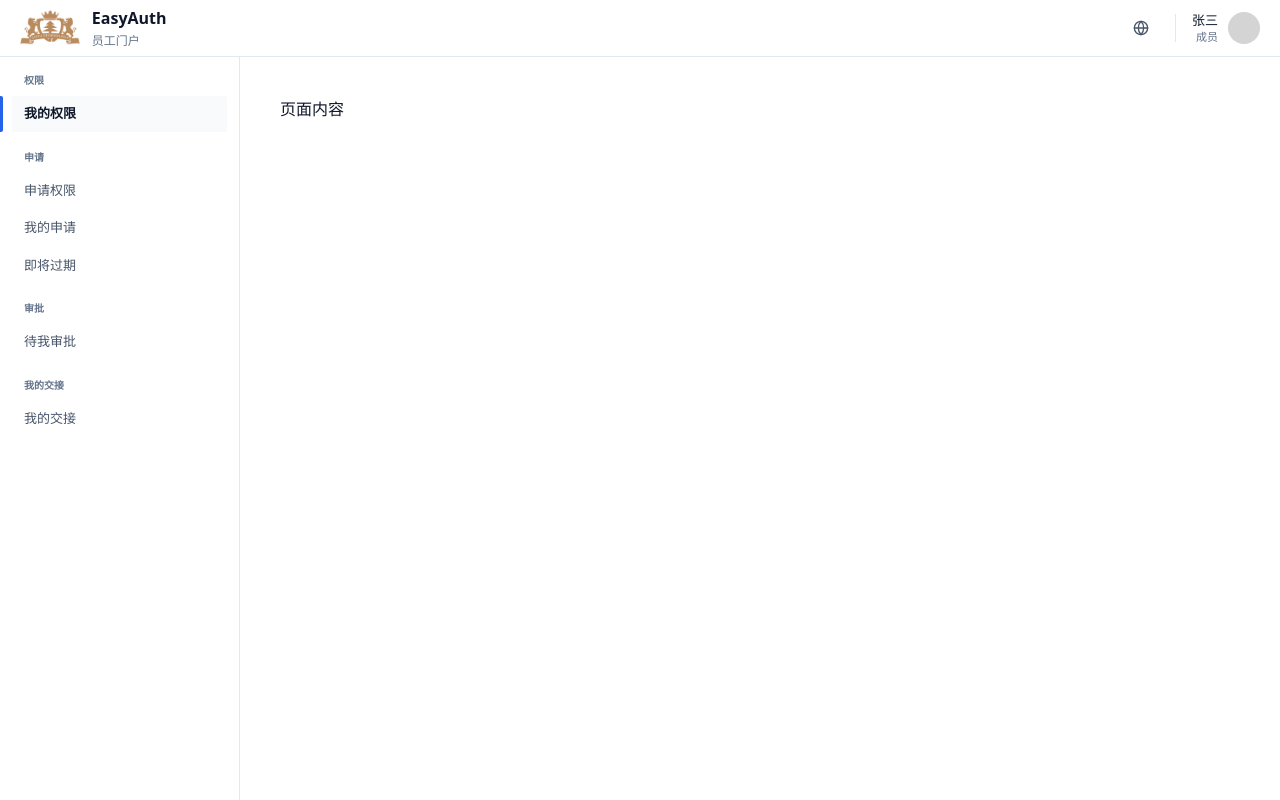
Test case: AppShell › 点击用户身份区域时展示登出菜单
Step 1. Click the button with aria-label "当前登录用户菜单" → {"x": 1226, "y": 28}, box [1188,8,1264,48]
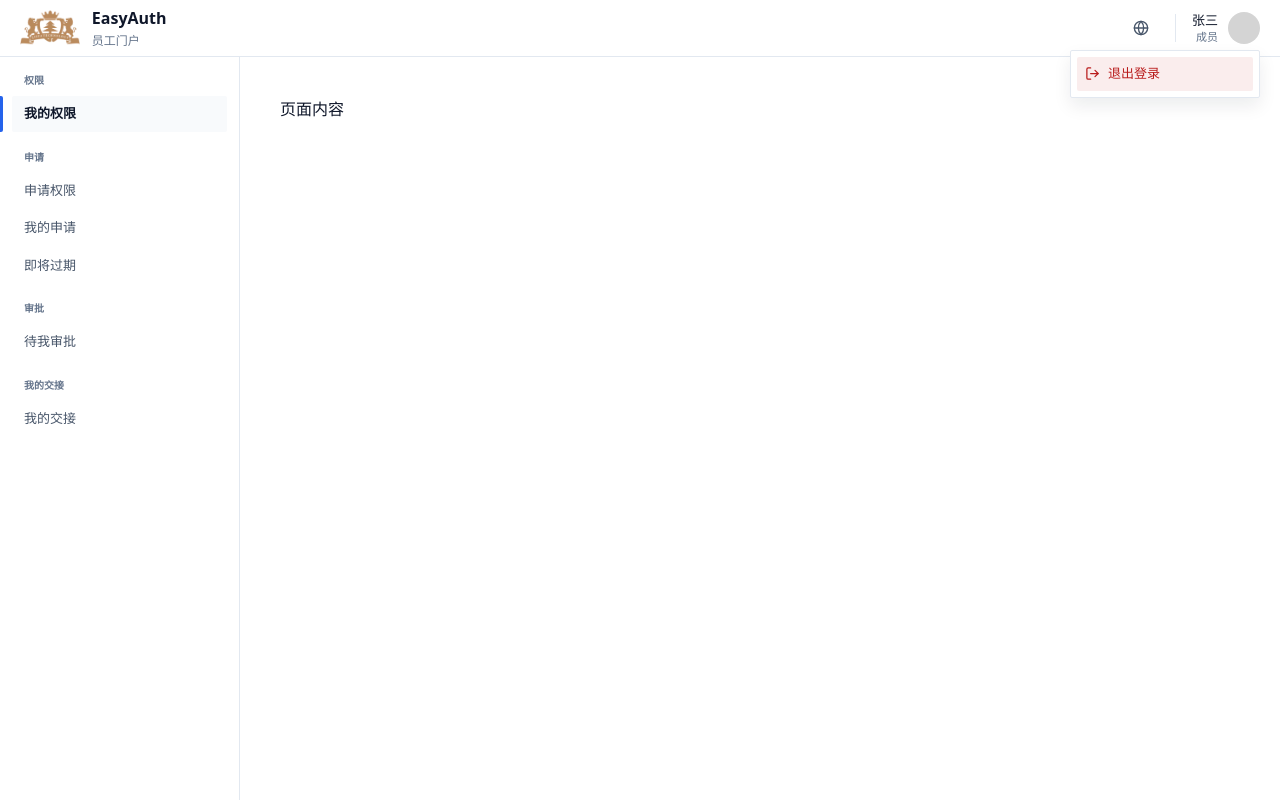
Expected: the menu item "退出登录" is shown, [1077,57,1253,90]
